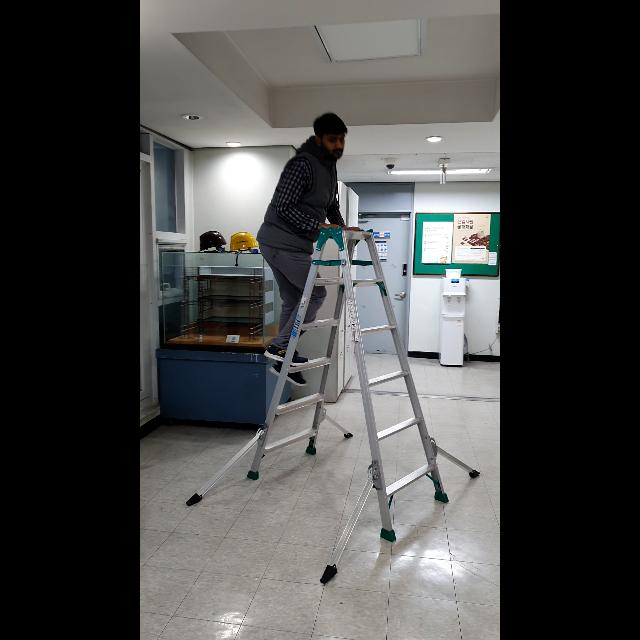boots: (181, 223, 483, 587)
vest: (258, 112, 360, 388)
